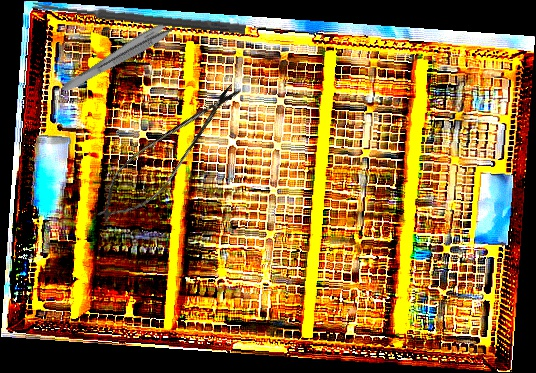Micro Scissor: (84, 69, 252, 236)
Surgical Spoon: (32, 0, 246, 35)
Tissue Forceps: (58, 8, 193, 101)
